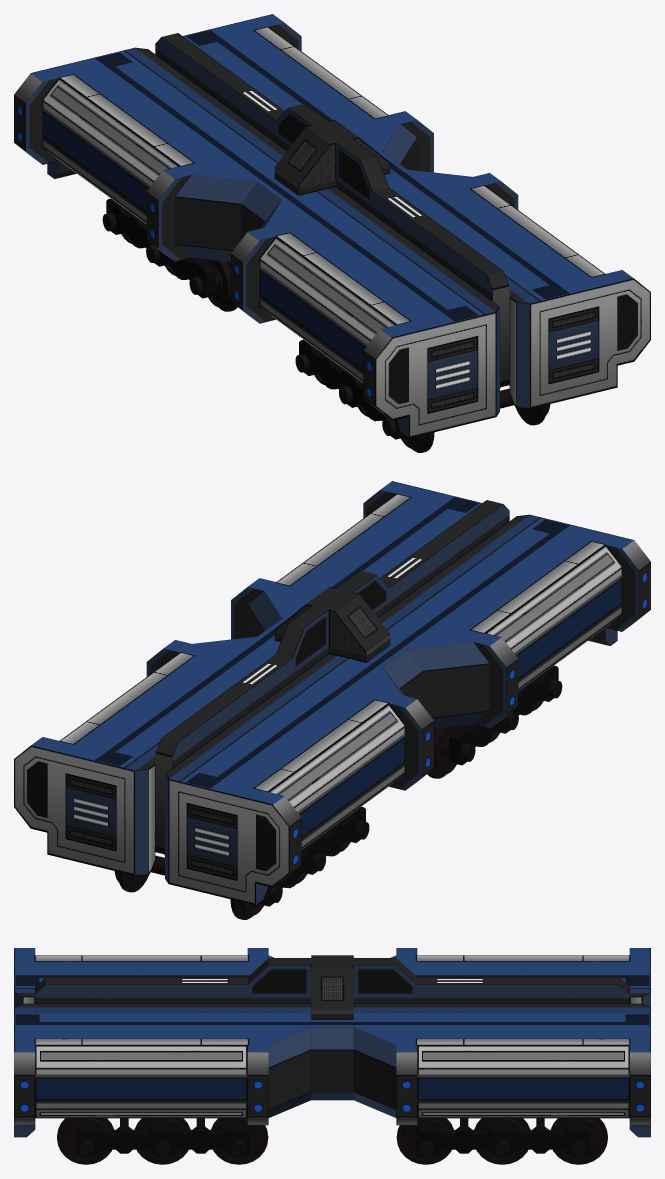
Rendered from carriage_003.fbx.
The picture shows the model from 3 angles, top to bottom: view 1: azimuth 30°, elevation 25°; view 2: azimuth 150°, elevation 25°; view 3: azimuth 270°, elevation 25°; orthographic projection. The views are drawn at different scales.
Parts seen in each view (by area): view 1: carriage_003, undercarriage_001, undercarriage_002, wheels6, wheels3; view 2: carriage_003, undercarriage_002, undercarriage_001, wheels1, wheels4; view 3: carriage_003, undercarriage_001, undercarriage_002, wheels1, wheels6, wheels3, wheels4, wheels2, wheels5.
Part boxes in pixels (x1,y1,x2,y2): carriage_003: (14,14,650,438); undercarriage_001: (106,198,215,298); undercarriage_002: (299,339,509,439); wheels6: (382,388,550,452); wheels3: (189,259,237,311); carriage_003: (14,481,650,905); undercarriage_002: (449,665,558,765); undercarriage_001: (155,806,365,906); wheels1: (114,855,282,919); wheels4: (427,726,475,778); carriage_003: (14,948,650,1137); undercarriage_001: (415,1118,589,1157); undercarriage_002: (75,1118,249,1157); wheels1: (550,1118,607,1164); wheels6: (57,1118,114,1164); wheels3: (396,1118,453,1164); wheels4: (211,1118,268,1164); wheels2: (474,1118,530,1164); wheels5: (134,1118,190,1164).
Size of the model in its own units: 660 by 463 by 1500.
